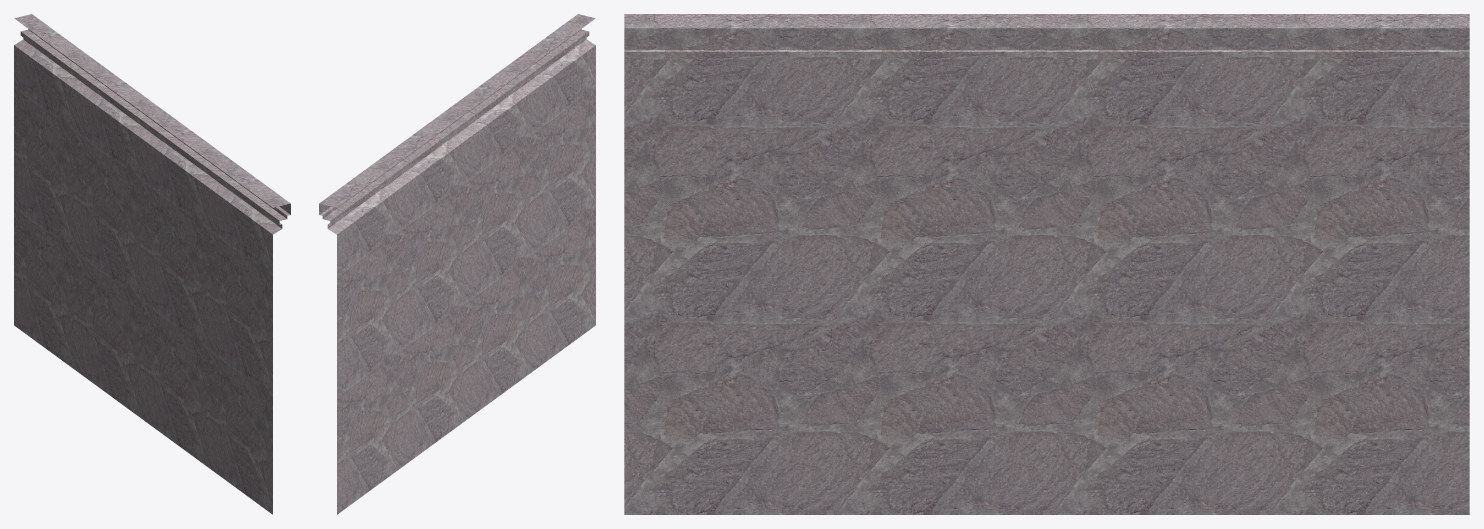
The model's file is mdl_apa_wall_back_lower.gltf.
The picture shows the model from 3 angles, left to right: view 1: azimuth 30°, elevation 25°; view 2: azimuth 150°, elevation 25°; view 3: azimuth 270°, elevation 25°; orthographic projection. The views are drawn at different scales.
Visible parts, largest first — view 1: mdl_apa_wall_back_lower; view 2: mdl_apa_wall_back_lower; view 3: mdl_apa_wall_back_lower.
Part boxes in pixels (<box>): mdl_apa_wall_back_lower: <box>14,14,290,514</box>; mdl_apa_wall_back_lower: <box>319,14,595,514</box>; mdl_apa_wall_back_lower: <box>624,14,1469,514</box>.
Bounding box in the file's own units: 0.3846 × 6.34 × 9.69.
Materials: 1 (1 with a texture image).
